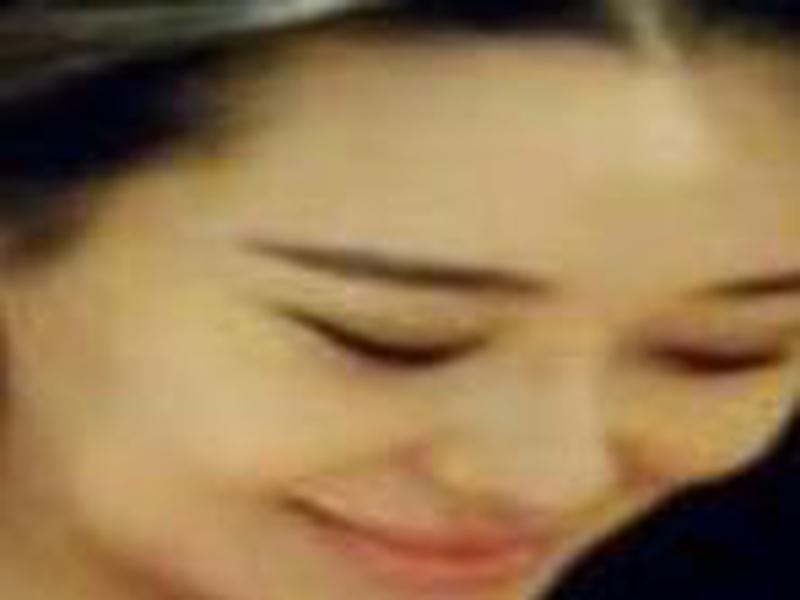without_mask: (4, 42, 797, 597)
